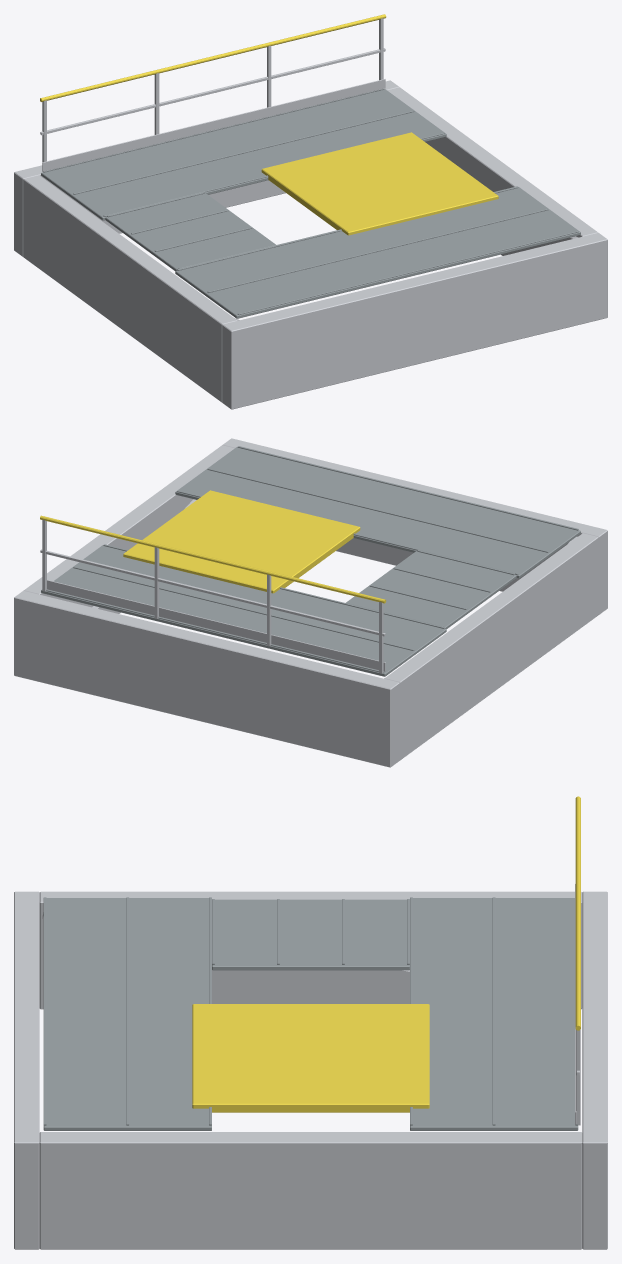
The model's file is offshore-oil-rig-and-platform-cellar-deck-section-7141c733__37008.glb.
3 renders of one model, top to bottom at view 1: azimuth 30°, elevation 25°; view 2: azimuth 150°, elevation 25°; view 3: azimuth 270°, elevation 25°, orthographic. The views are drawn at different scales.
Visible parts, largest first — view 1: cellar-deck-section; view 2: cellar-deck-section; view 3: cellar-deck-section.
Part boxes in pixels (x1=…): cellar-deck-section: x1=14, y1=14, x2=607, y2=409; cellar-deck-section: x1=14, y1=438, x2=607, y2=767; cellar-deck-section: x1=14, y1=796, x2=607, y2=1249.
Size of the model in its own units: 6 by 2.38 by 6.
